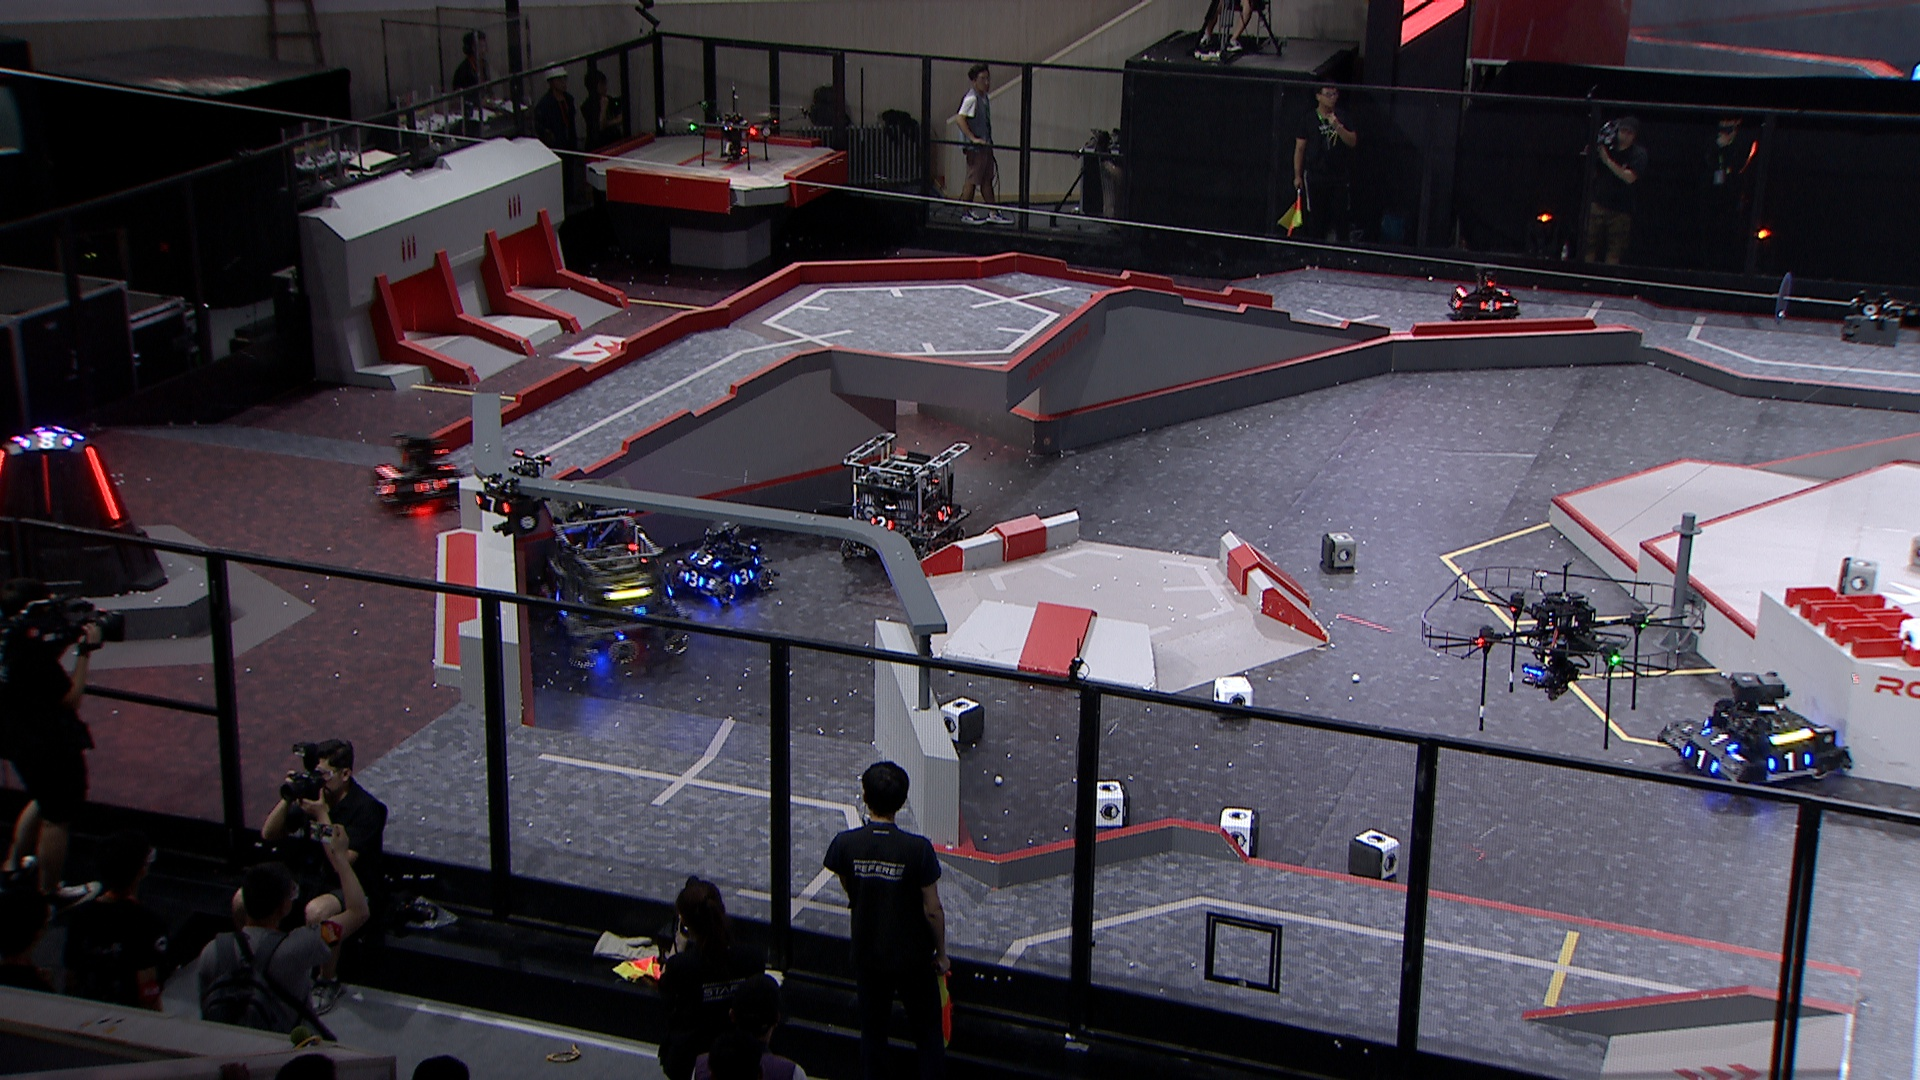armor: (84, 440, 123, 520), (40, 451, 54, 522), (1766, 750, 1809, 771), (1702, 725, 1737, 752), (471, 491, 509, 513), (1685, 744, 1717, 769), (414, 475, 448, 493), (372, 475, 394, 495), (430, 452, 451, 472), (684, 571, 707, 589), (866, 517, 891, 531), (692, 551, 717, 566), (735, 567, 754, 584), (1494, 282, 1513, 299), (1480, 297, 1499, 313), (1448, 294, 1465, 311), (938, 505, 953, 524)
car: (520, 522, 690, 676), (1662, 669, 1851, 790), (839, 425, 972, 567), (542, 472, 644, 568), (667, 522, 775, 611), (367, 429, 465, 514), (1443, 264, 1518, 324)
ignore: (17, 433, 67, 448)
watcher: (465, 448, 556, 541)
